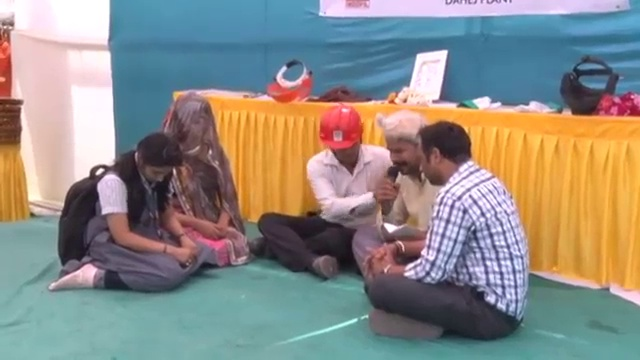helmet: (318, 107, 364, 151)
helmet_off: (418, 120, 473, 188), (379, 110, 430, 182), (166, 93, 219, 159), (126, 130, 180, 192)
helmet_on: (317, 106, 367, 170)
person: (363, 119, 532, 336), (51, 131, 200, 294), (249, 105, 389, 276), (162, 88, 250, 272), (350, 108, 441, 279)
